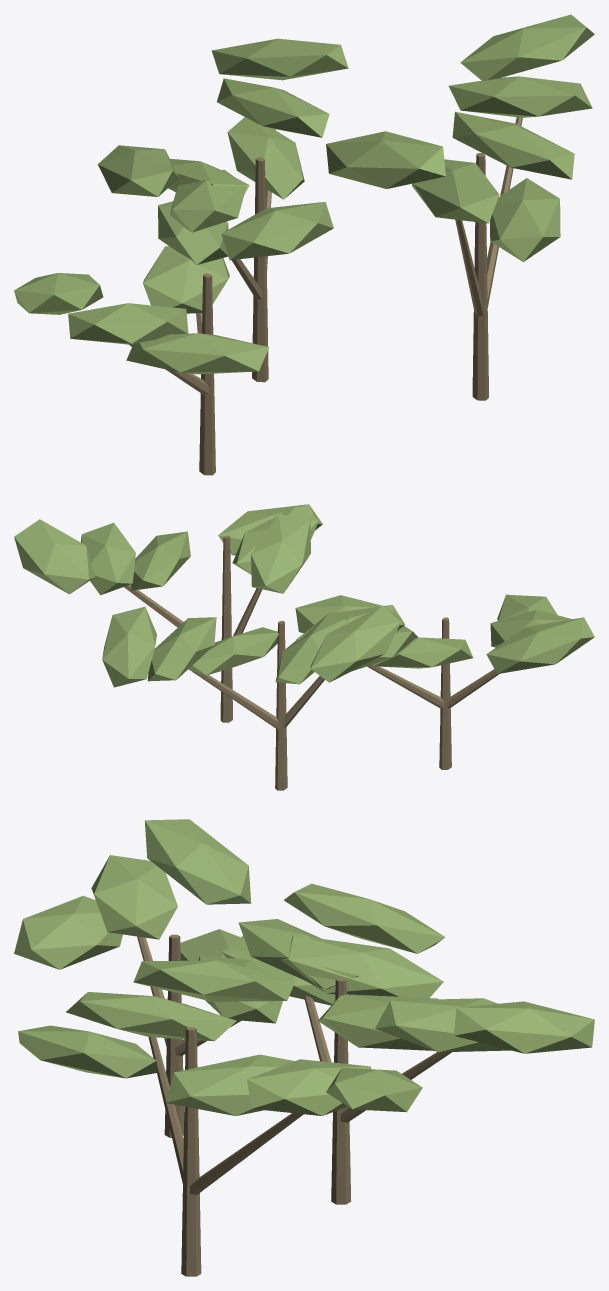
File: SM_MarshwardLowScrub_01.fbx
3 views of the same model, one above another, from view 1: azimuth 30°, elevation 25°; view 2: azimuth 150°, elevation 25°; view 3: azimuth 270°, elevation 25° (orthographic). The views are drawn at different scales.
Parts seen in each view (by area): view 1: SM_MarshwardLowScrub_01; view 2: SM_MarshwardLowScrub_01; view 3: SM_MarshwardLowScrub_01.
Boxes of the visible parts, x1=… form: SM_MarshwardLowScrub_01: x1=14, y1=14, x2=594, y2=475; SM_MarshwardLowScrub_01: x1=14, y1=504, x2=594, y2=790; SM_MarshwardLowScrub_01: x1=14, y1=819, x2=594, y2=1276.
Bounding box in the file's own units: 240 × 180 × 95.
